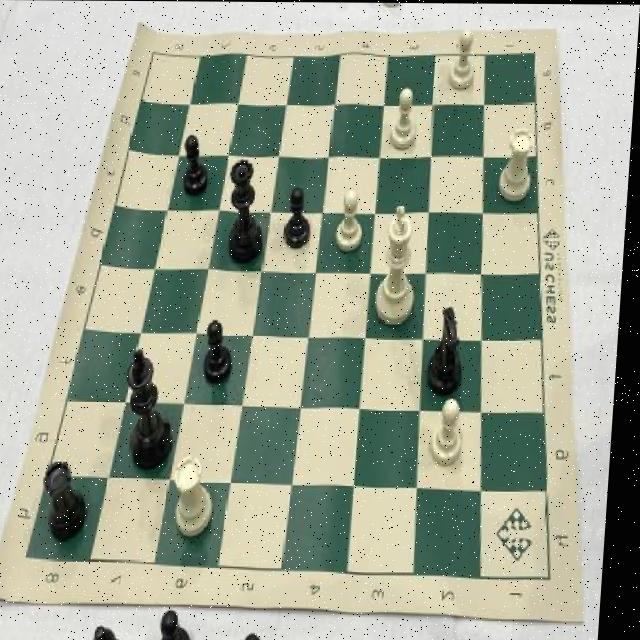black-bishop: (124, 342, 184, 477)
black-knight: (204, 317, 244, 391), (181, 130, 215, 198), (283, 185, 318, 251)
black-pawn: (223, 154, 273, 267)
black-queen: (47, 456, 99, 543), (428, 304, 473, 395)
white-bishop: (373, 203, 428, 327)
white-knight: (432, 397, 475, 467), (336, 185, 372, 254), (389, 85, 424, 154), (449, 26, 484, 93)
white-queen: (175, 454, 226, 544), (495, 124, 543, 206)
